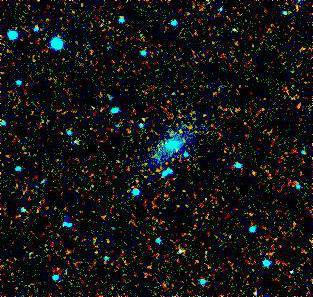star: (111, 122, 141, 152)
